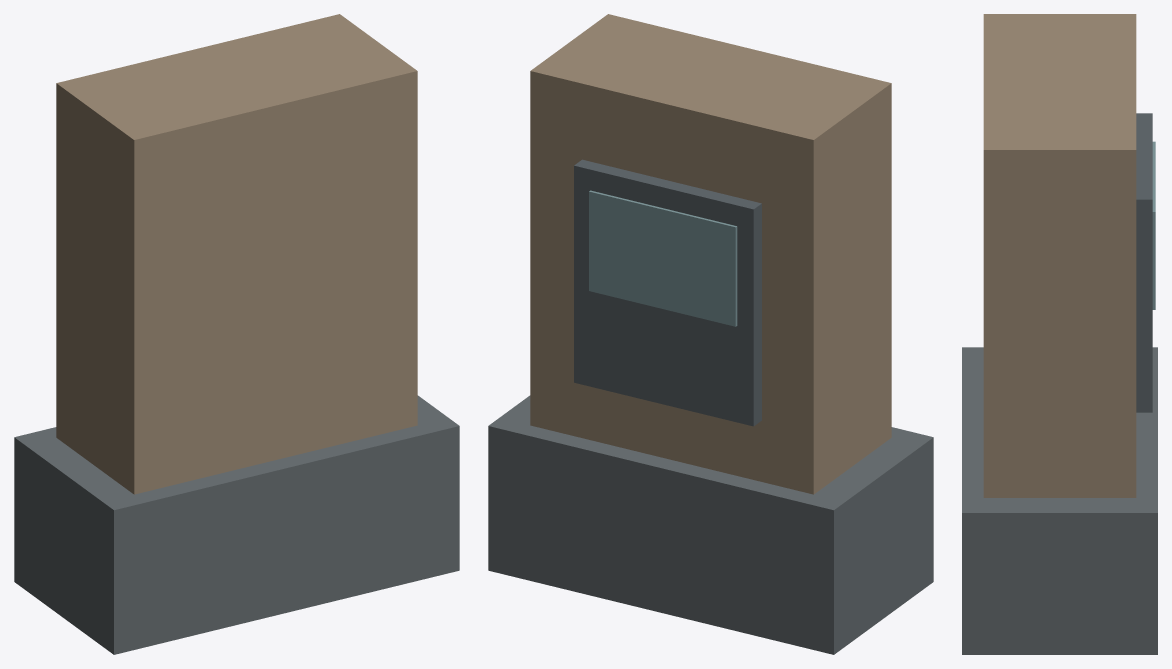
The model's file is iz3_production_distribution_02.glb.
3 renders of one model, left to right at view 1: azimuth 30°, elevation 25°; view 2: azimuth 150°, elevation 25°; view 3: azimuth 270°, elevation 25°, orthographic.
Parts seen in each view (by area): view 1: cabinet, base; view 2: cabinet, base, panel, display; view 3: cabinet, base, panel, display.
Boxes of the visible parts, x1,y1,x2,y2 form: cabinet: [56, 14, 417, 494]; base: [14, 395, 459, 654]; cabinet: [530, 14, 891, 494]; base: [488, 395, 933, 654]; panel: [574, 159, 761, 426]; display: [589, 190, 737, 326]; cabinet: [983, 14, 1136, 497]; base: [962, 347, 1157, 654]; panel: [1136, 113, 1152, 412]; display: [1152, 141, 1155, 309].
Size of the model in its own units: 0.8 by 1.1 by 0.4.
